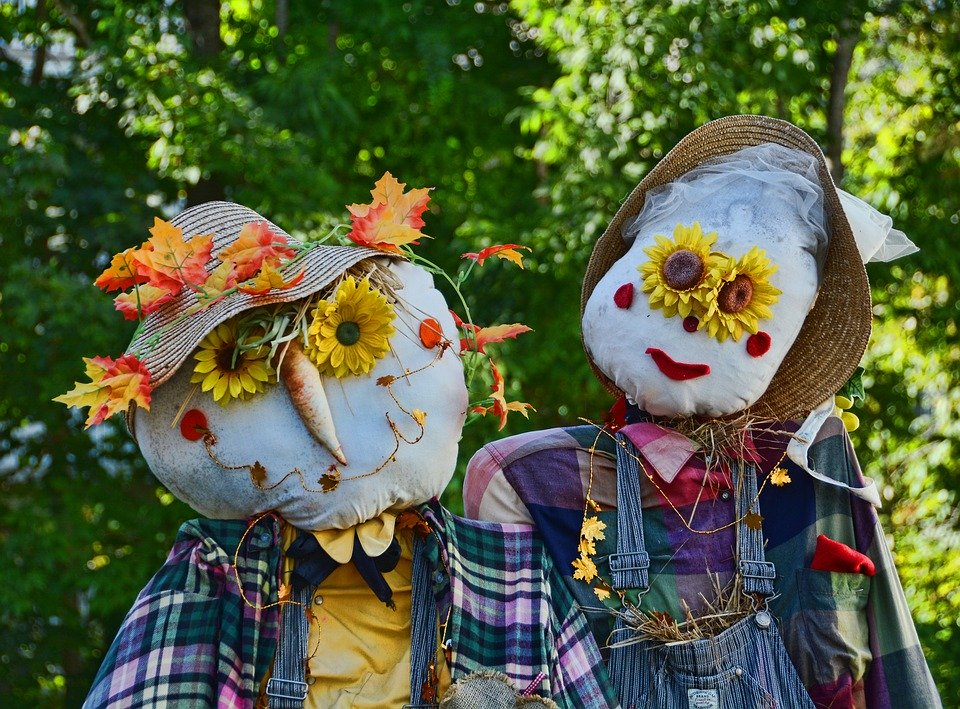person-like: (459, 95, 949, 709), (52, 190, 619, 709)
